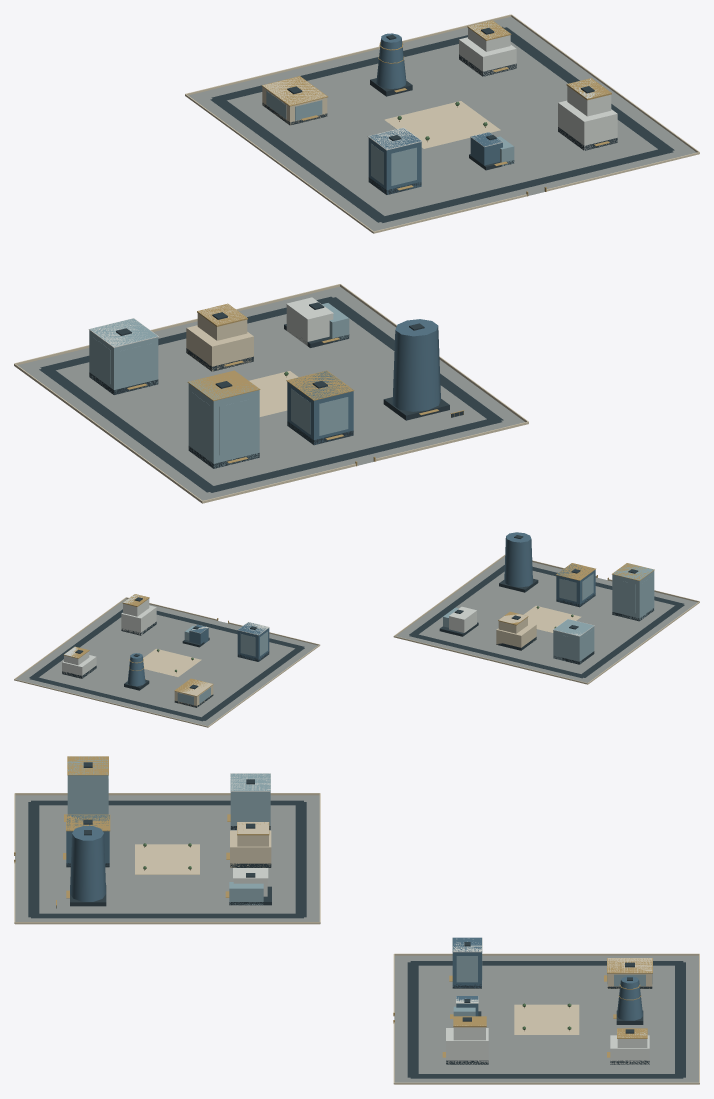
File: GC-TILE-19-10.glb
3 views of the same model, one above another, from view 1: azimuth 30°, elevation 25°; view 2: azimuth 150°, elevation 25°; view 3: azimuth 270°, elevation 25° (orthographic). The views are drawn at different scales.
Parts seen in each view (by area): view 1: GC-TILE-19-10-paving, GC-TILE-19-10-dark, GC-TILE-19-10-ivory, GC-TILE-19-10-glass, GC-TILE-19-10-blue, GC-TILE-19-10-white, GC-TILE-19-10-gold; view 2: GC-TILE-19-10-paving, GC-TILE-19-10-dark, GC-TILE-19-10-ivory, GC-TILE-19-10-glass, GC-TILE-19-10-blue, GC-TILE-19-10-white, GC-TILE-19-10-gold; view 3: GC-TILE-19-10-paving, GC-TILE-19-10-dark, GC-TILE-19-10-ivory, GC-TILE-19-10-glass, GC-TILE-19-10-blue, GC-TILE-19-10-white, GC-TILE-19-10-gold.
Part boxes in pixels (box(x1,y1,x2,y2)): GC-TILE-19-10-paving: box(18, 17, 696, 500); GC-TILE-19-10-dark: box(39, 26, 674, 492); GC-TILE-19-10-ivory: box(14, 14, 699, 503); GC-TILE-19-10-glass: box(89, 91, 514, 468); GC-TILE-19-10-blue: box(287, 33, 502, 444); GC-TILE-19-10-white: box(88, 21, 617, 347); GC-TILE-19-10-gold: box(127, 20, 611, 466); GC-TILE-19-10-paving: box(16, 556, 697, 726); GC-TILE-19-10-dark: box(29, 535, 684, 721); GC-TILE-19-10-ivory: box(14, 554, 699, 727); GC-TILE-19-10-glass: box(177, 563, 654, 704); GC-TILE-19-10-blue: box(127, 532, 595, 686); GC-TILE-19-10-white: box(62, 594, 594, 678); GC-TILE-19-10-gold: box(64, 563, 654, 696); GC-TILE-19-10-paving: box(15, 795, 698, 1082); GC-TILE-19-10-dark: box(28, 762, 685, 1078); GC-TILE-19-10-ivory: box(14, 793, 699, 1084); GC-TILE-19-10-glass: box(67, 756, 652, 1016); GC-TILE-19-10-blue: box(66, 815, 642, 1020); GC-TILE-19-10-white: box(230, 773, 649, 1064); GC-TILE-19-10-gold: box(14, 756, 652, 1057).
Bounding box in the file's own units: 759 × 80.23 × 760.
